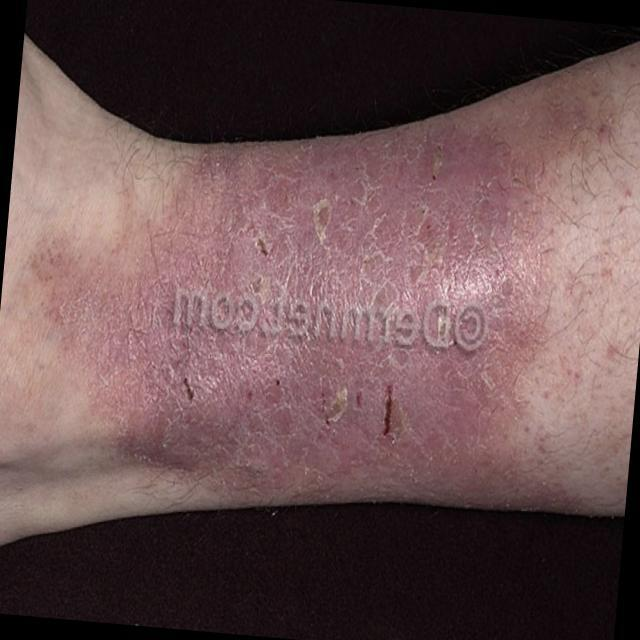Eczema: (31, 129, 549, 503)
